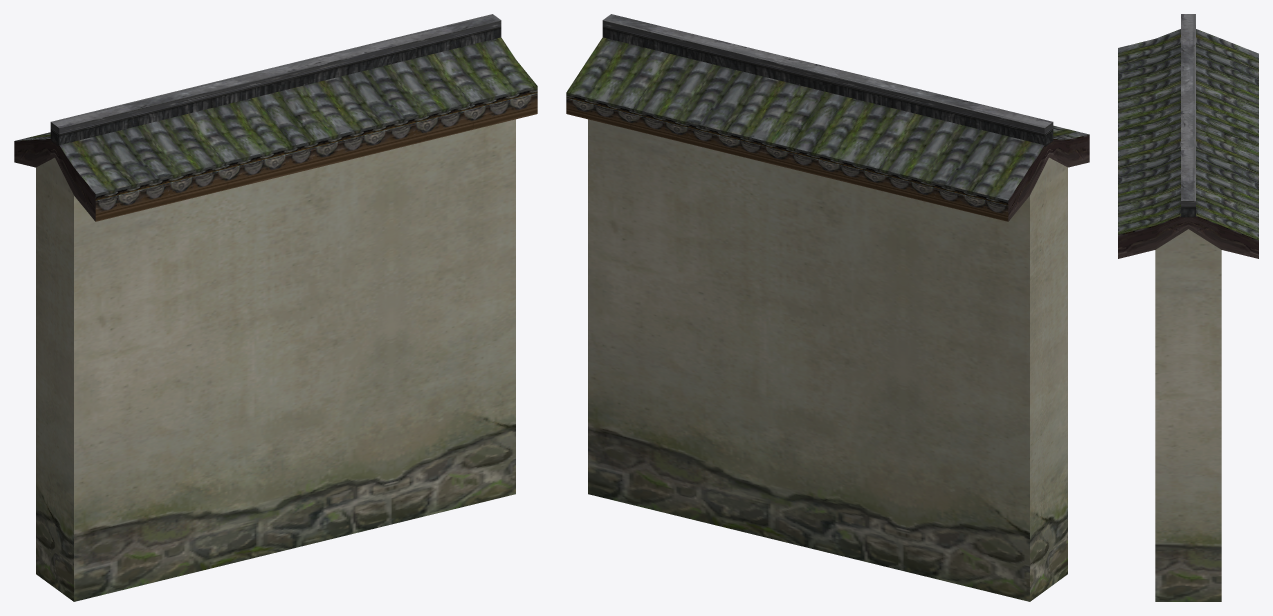
The model's file is qiang_dw_24.fbx.
3 views of the same model, side by side, from view 1: azimuth 30°, elevation 25°; view 2: azimuth 150°, elevation 25°; view 3: azimuth 270°, elevation 25° (orthographic). The views are drawn at different scales.
Parts seen in each view (by area): view 1: qiang_dw_24; view 2: qiang_dw_24; view 3: qiang_dw_24.
Part boxes in pixels (x1,y1,x2,y2): qiang_dw_24: (14, 14, 537, 601); qiang_dw_24: (566, 14, 1089, 601); qiang_dw_24: (1118, 14, 1258, 601).
Size of what is drawn, in the model's own units: 561 by 562 by 179.
